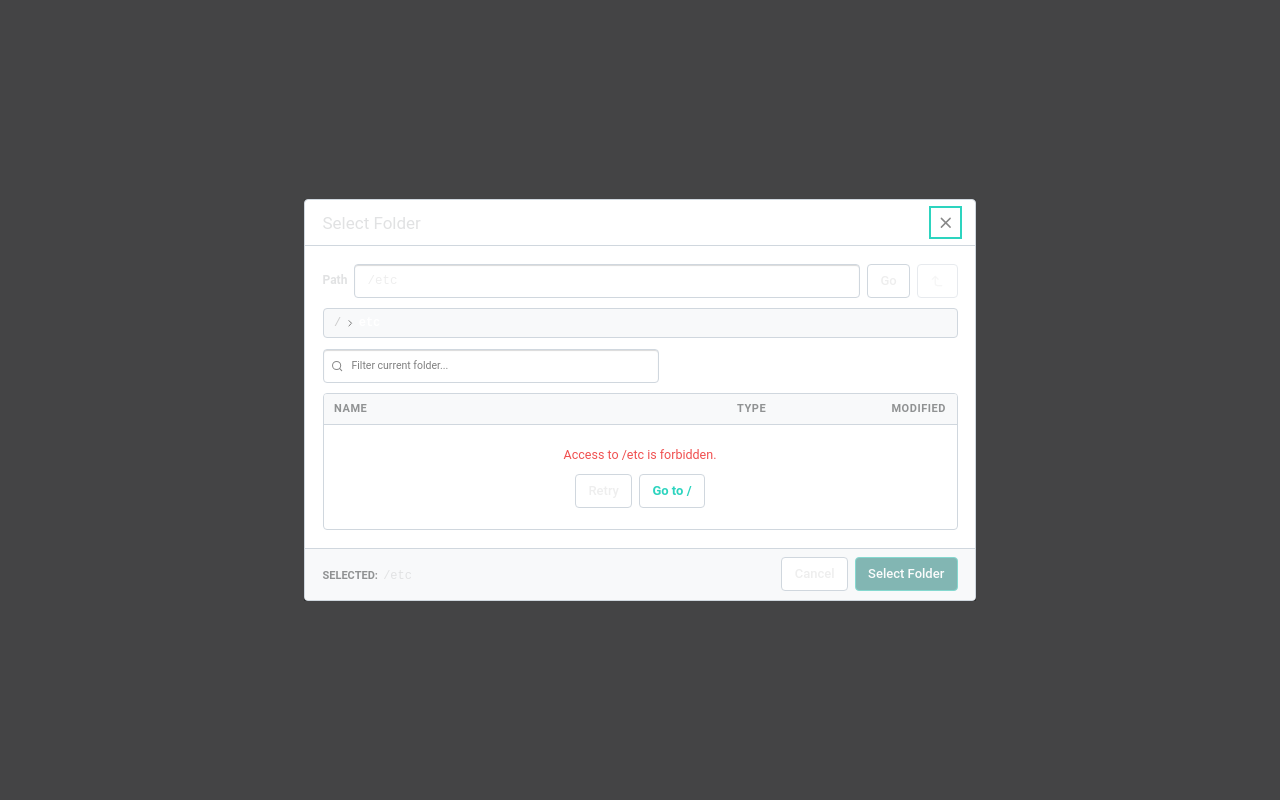
Scenario: PathBrowserModal & PathBrowserInput Integration › handles directory error state (e.g. 403 /etc) by disabling select button, hiding new folder, and providing Go to / recovery
The width and height of the screenshot is (1280, 800).
expect the text "Access to /etc is forbidden." is shown: met, box left=564, top=446, right=716, bottom=464
expect the button "Select Folder" is disabled: met, box left=855, top=557, right=958, bottom=591
Click the button "Go to /" at (672, 491), box left=639, top=474, right=705, bottom=508
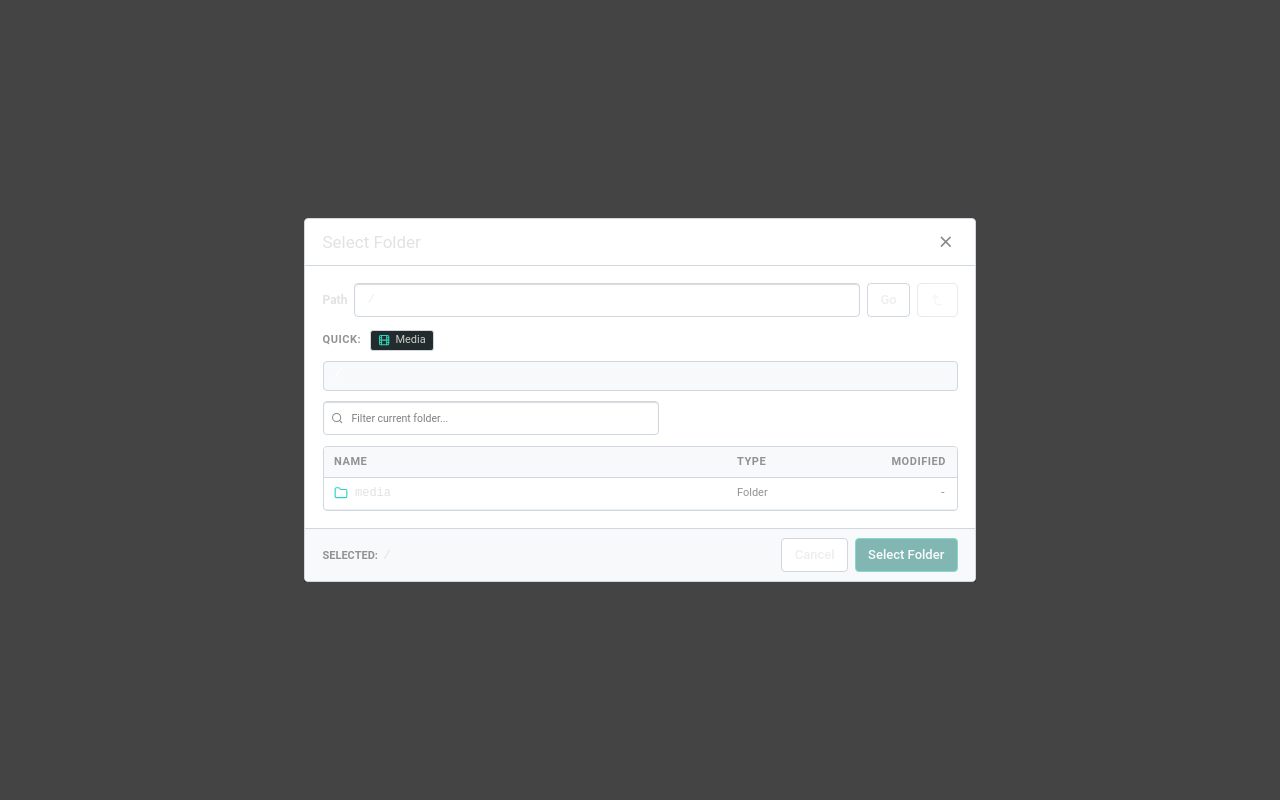
expect the button "media" is shown: met, box left=334, top=485, right=716, bottom=502
